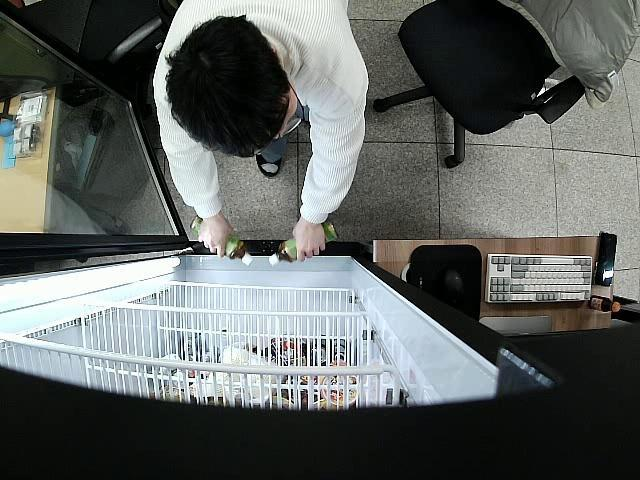19_17cha: (190, 214, 254, 267), (268, 222, 338, 266)
